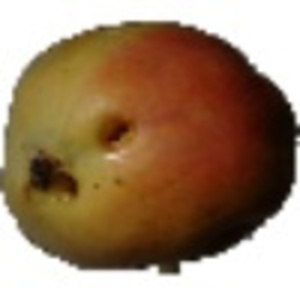mamão: (9, 15, 295, 278)
